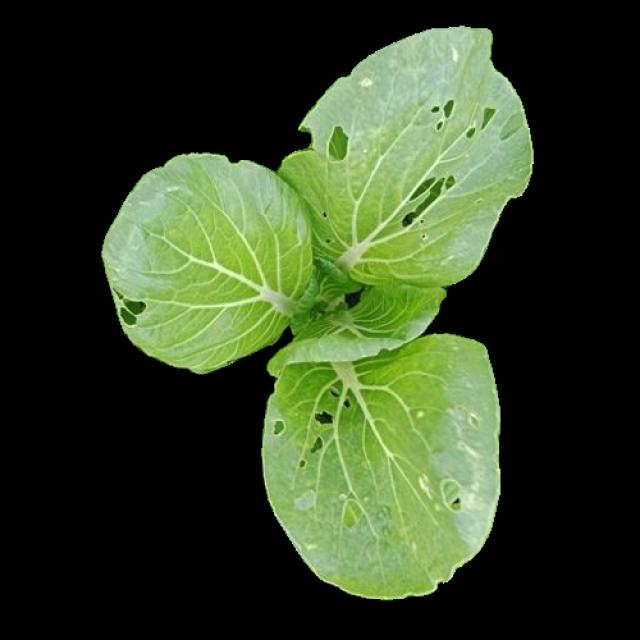not-mature: (102, 27, 528, 594)
unhealthy: (272, 29, 524, 283), (262, 337, 502, 591), (101, 156, 314, 373)
